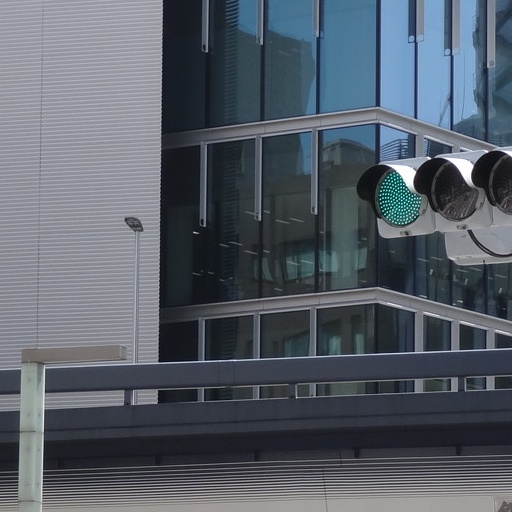Traffic_Signal_Blue: (355, 151, 511, 233)
